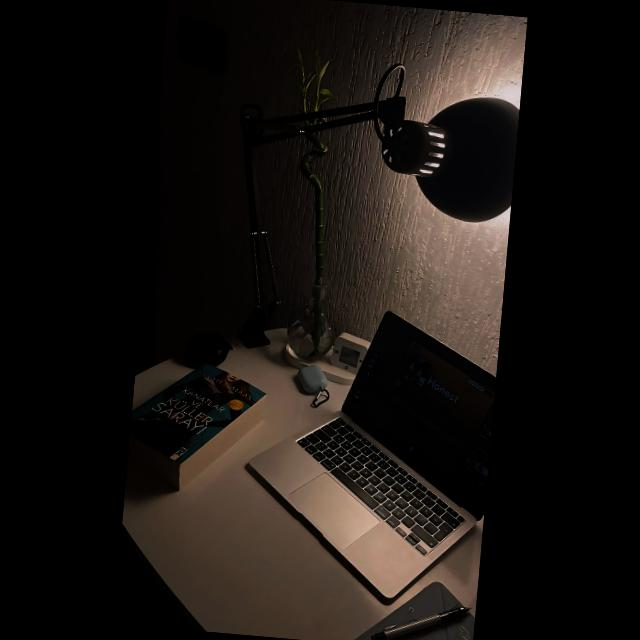laptop: (234, 304, 500, 607)
